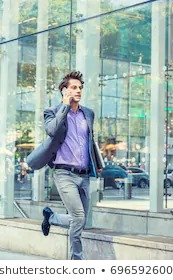F_M_suit jacket: (25, 100, 102, 179)
